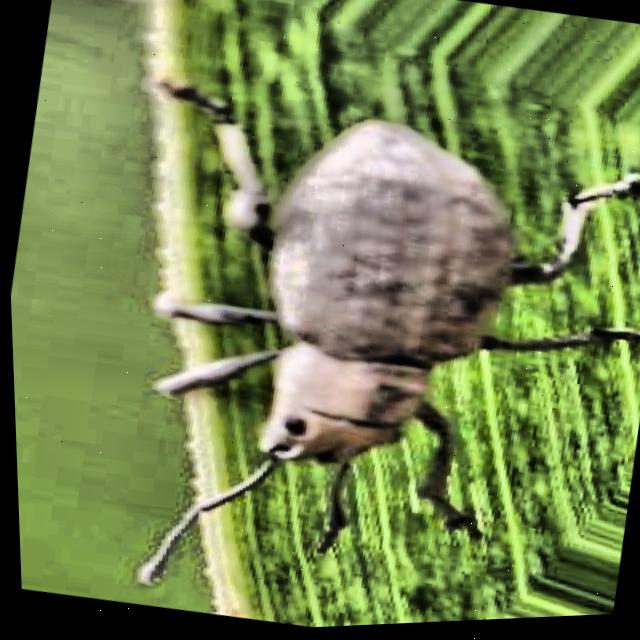Stink bug: (58, 84, 640, 617)
